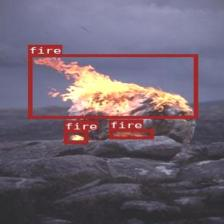fire: (27, 54, 197, 118), (109, 128, 153, 139), (63, 130, 87, 144)
